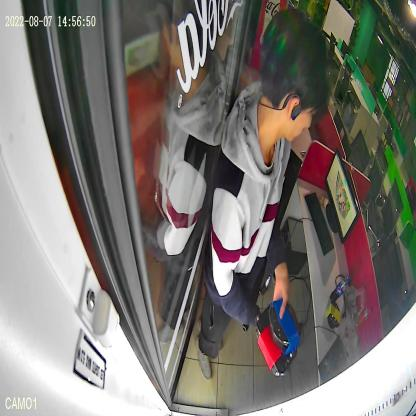blue: (270, 298, 300, 356)
red: (256, 304, 298, 378)
